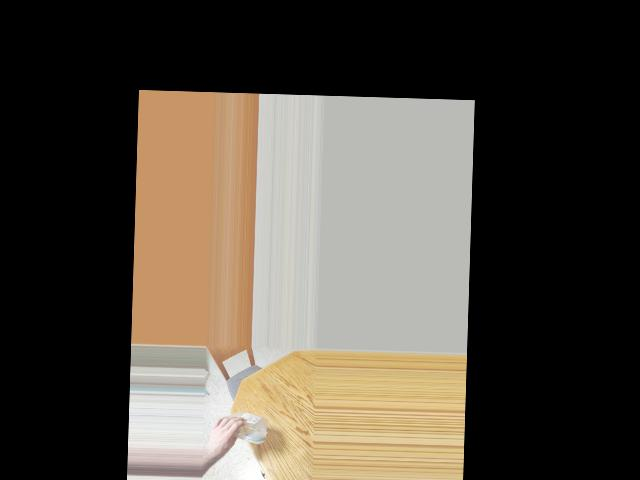cheese: (214, 409, 259, 447)
